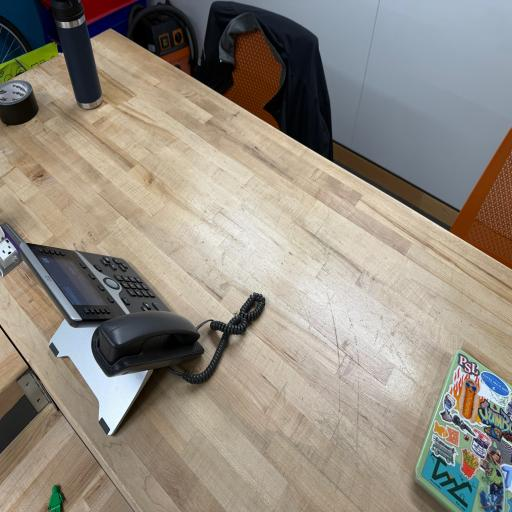Lego-Dude: (48, 480, 70, 512)
